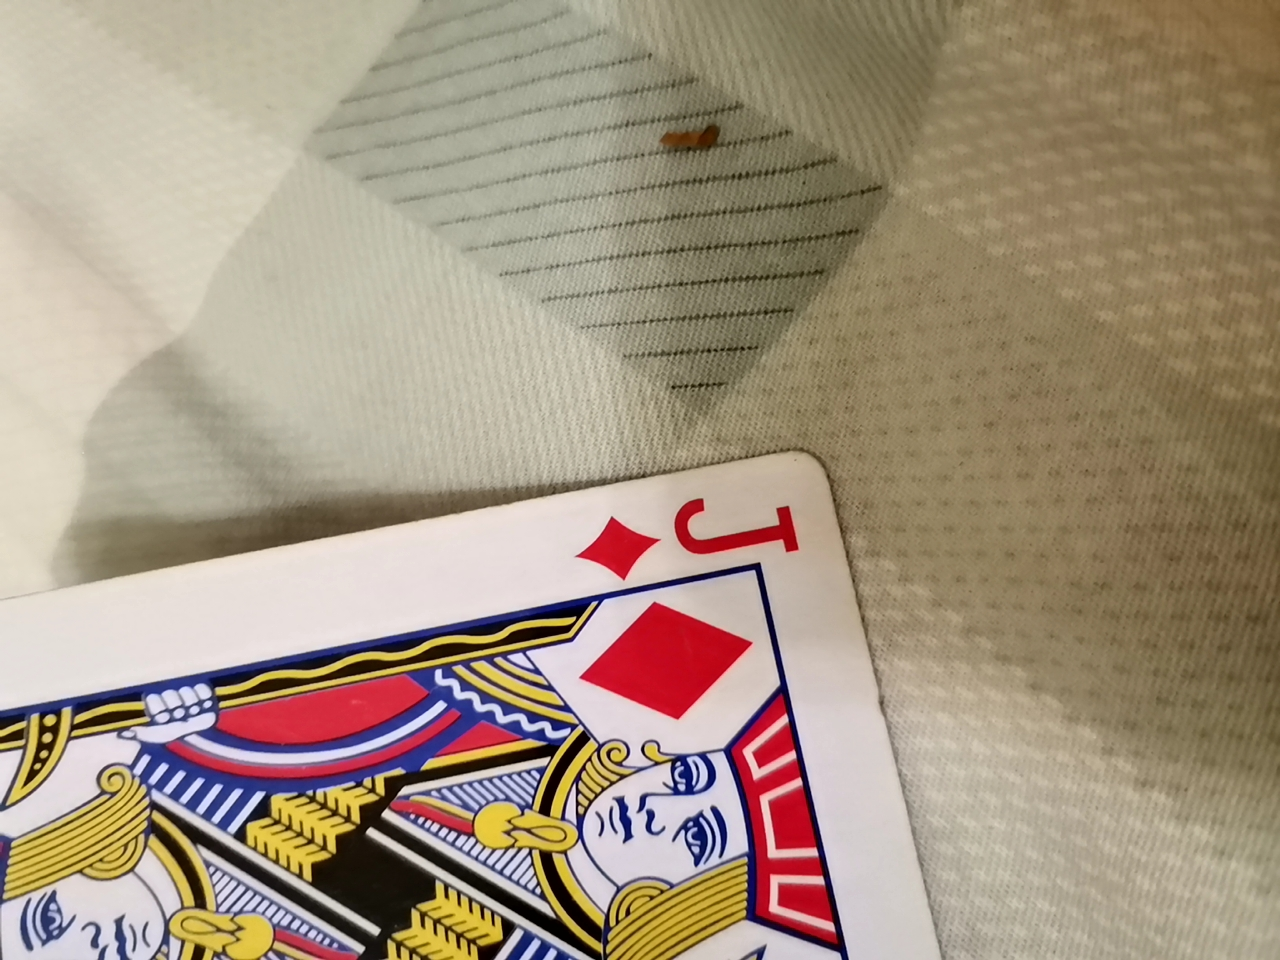fk j: (7, 445, 993, 955)
